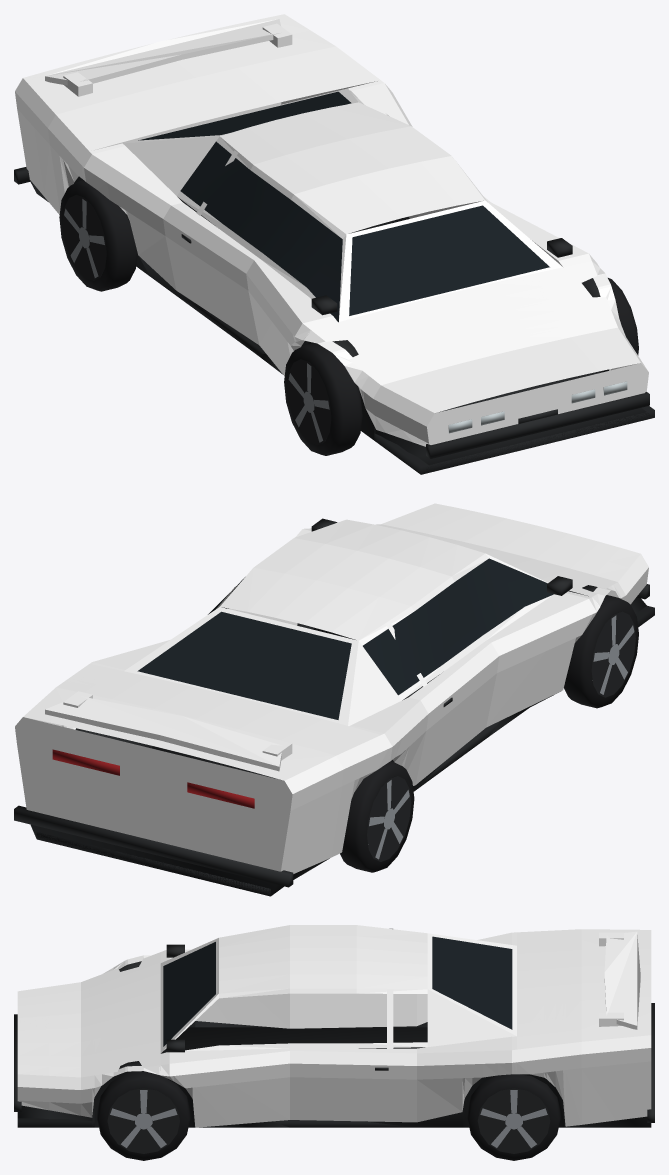
The model's file is taurenza_furia.glb.
3 views of the same model, one above another, from view 1: azimuth 30°, elevation 25°; view 2: azimuth 150°, elevation 25°; view 3: azimuth 270°, elevation 25° (orthographic). The views are drawn at different scales.
Parts seen in each view (by area): view 1: Body_Paint, Body_Details, Mount_FrontLeft_Wheel_Details, Mount_RearLeft_Wheel_Details, Mount_FrontRight_Wheel_Details; view 2: Body_Paint, Body_Details, Mount_RearLeft_Wheel_Details, Mount_FrontLeft_Wheel_Details; view 3: Body_Paint, Body_Details, Mount_FrontRight_Wheel_Details, Mount_RearRight_Wheel_Details.
Boxes of the visible parts, x1,y1,x2,y2 form: Body_Paint: [15, 14, 648, 446]; Body_Details: [14, 91, 654, 474]; Mount_FrontLeft_Wheel_Details: [284, 343, 362, 455]; Mount_RearLeft_Wheel_Details: [59, 180, 137, 291]; Mount_FrontRight_Wheel_Details: [608, 278, 638, 355]; Body_Paint: [15, 503, 648, 873]; Body_Details: [14, 518, 654, 896]; Mount_RearLeft_Wheel_Details: [340, 761, 414, 872]; Mount_FrontLeft_Wheel_Details: [564, 595, 638, 708]; Body_Paint: [17, 925, 651, 1127]; Body_Details: [14, 936, 654, 1127]; Mount_FrontRight_Wheel_Details: [97, 1071, 190, 1160]; Mount_RearRight_Wheel_Details: [467, 1074, 560, 1160].
Size of the model in its own units: 2.11 by 1.17 by 4.61.
2 materials, 1 textured.
